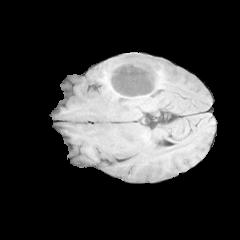glioma: (105, 54, 162, 99)
